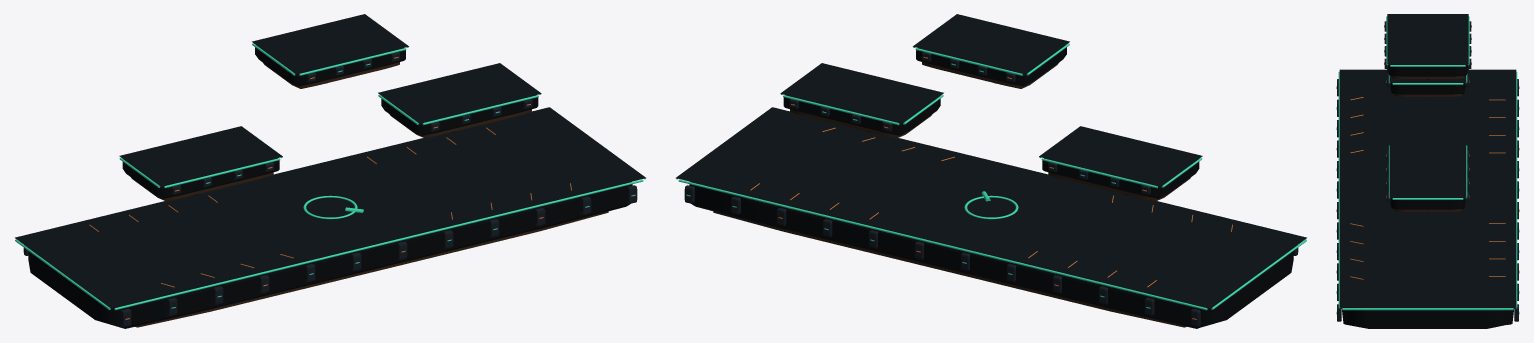
Rendered from prism-terminal.obj.
3 renders of one model, left to right at view 1: azimuth 30°, elevation 25°; view 2: azimuth 150°, elevation 25°; view 3: azimuth 270°, elevation 25°, orthographic. The views are drawn at different scales.
Visible parts, largest first — view 1: arena-deck_part_152, beveled-plate_part_0, arena-deck_part_153, arena-deck_part_154, arena-deck_part_155, cylinder_part_114, beveled-plate_part_68, beveled-plate_part_50, beveled-plate_part_86, beveled-plate_part_1, beveled-plate_part_51, beveled-plate_part_69; view 2: arena-deck_part_152, beveled-plate_part_0, arena-deck_part_153, arena-deck_part_154, arena-deck_part_155, cylinder_part_112, beveled-plate_part_68, beveled-plate_part_50, beveled-plate_part_86, beveled-plate_part_1, beveled-plate_part_51, beveled-plate_part_69; view 3: arena-deck_part_152, arena-deck_part_154, arena-deck_part_155, beveled-plate_part_0, beveled-plate_part_86, beveled-plate_part_68, beveled-plate_part_50, cylinder_part_115, cylinder_part_112, cylinder_part_114, arena-deck_part_153, beveled-plate_part_87 (+3 smaller).
Part boxes in pixels (x1=…): arena-deck_part_152: x1=15, y1=107, x2=645, y2=308; beveled-plate_part_0: x1=28, y1=181, x2=632, y2=328; arena-deck_part_153: x1=119, y1=126, x2=282, y2=186; arena-deck_part_154: x1=378, y1=63, x2=541, y2=123; arena-deck_part_155: x1=252, y1=14, x2=408, y2=73; cylinder_part_114: x1=114, y1=179, x2=643, y2=310; beveled-plate_part_68: x1=381, y1=95, x2=538, y2=135; beveled-plate_part_50: x1=122, y1=158, x2=279, y2=198; beveled-plate_part_86: x1=255, y1=47, x2=405, y2=86; beveled-plate_part_1: x1=135, y1=211, x2=608, y2=327; beveled-plate_part_51: x1=131, y1=172, x2=273, y2=201; beveled-plate_part_69: x1=390, y1=109, x2=531, y2=138; arena-deck_part_152: x1=676, y1=107, x2=1306, y2=308; beveled-plate_part_0: x1=689, y1=181, x2=1293, y2=328; arena-deck_part_153: x1=1039, y1=126, x2=1202, y2=186; arena-deck_part_154: x1=780, y1=63, x2=943, y2=123; arena-deck_part_155: x1=913, y1=14, x2=1069, y2=73; cylinder_part_112: x1=678, y1=179, x2=1207, y2=310; beveled-plate_part_68: x1=783, y1=95, x2=940, y2=135; beveled-plate_part_50: x1=1042, y1=158, x2=1199, y2=198; beveled-plate_part_86: x1=916, y1=47, x2=1066, y2=86; beveled-plate_part_1: x1=713, y1=211, x2=1186, y2=327; beveled-plate_part_51: x1=1048, y1=172, x2=1190, y2=201; beveled-plate_part_69: x1=790, y1=109, x2=931, y2=138; arena-deck_part_152: x1=1339, y1=69, x2=1516, y2=307; arena-deck_part_154: x1=1389, y1=143, x2=1466, y2=197; arena-deck_part_155: x1=1387, y1=14, x2=1468, y2=64; beveled-plate_part_0: x1=1341, y1=307, x2=1514, y2=328; beveled-plate_part_86: x1=1388, y1=64, x2=1467, y2=76; beveled-plate_part_68: x1=1390, y1=197, x2=1465, y2=209; beveled-plate_part_50: x1=1390, y1=82, x2=1465, y2=94; cylinder_part_115: x1=1342, y1=308, x2=1513, y2=310; cylinder_part_112: x1=1515, y1=71, x2=1517, y2=308; cylinder_part_114: x1=1338, y1=71, x2=1340, y2=308; arena-deck_part_153: x1=1389, y1=76, x2=1466, y2=82; beveled-plate_part_87: x1=1392, y1=76, x2=1463, y2=78.
Size of the model in its own units: 23.69 by 8.92 by 7.67.
